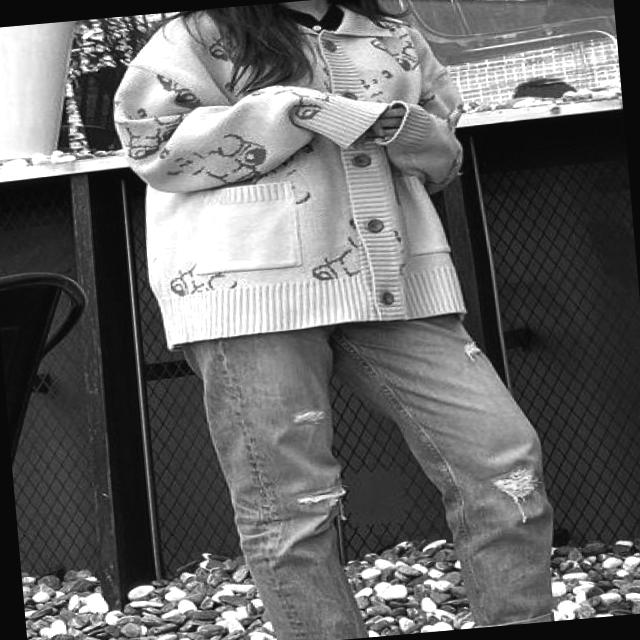cardigan: (103, 0, 482, 349)
denimpants: (175, 296, 562, 640)
